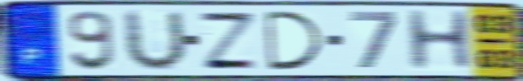7: (346, 9, 403, 72)
9: (66, 9, 117, 73)
D: (260, 9, 327, 72)
H: (402, 9, 476, 73)
U: (122, 8, 190, 73)
Z: (196, 10, 262, 72)
